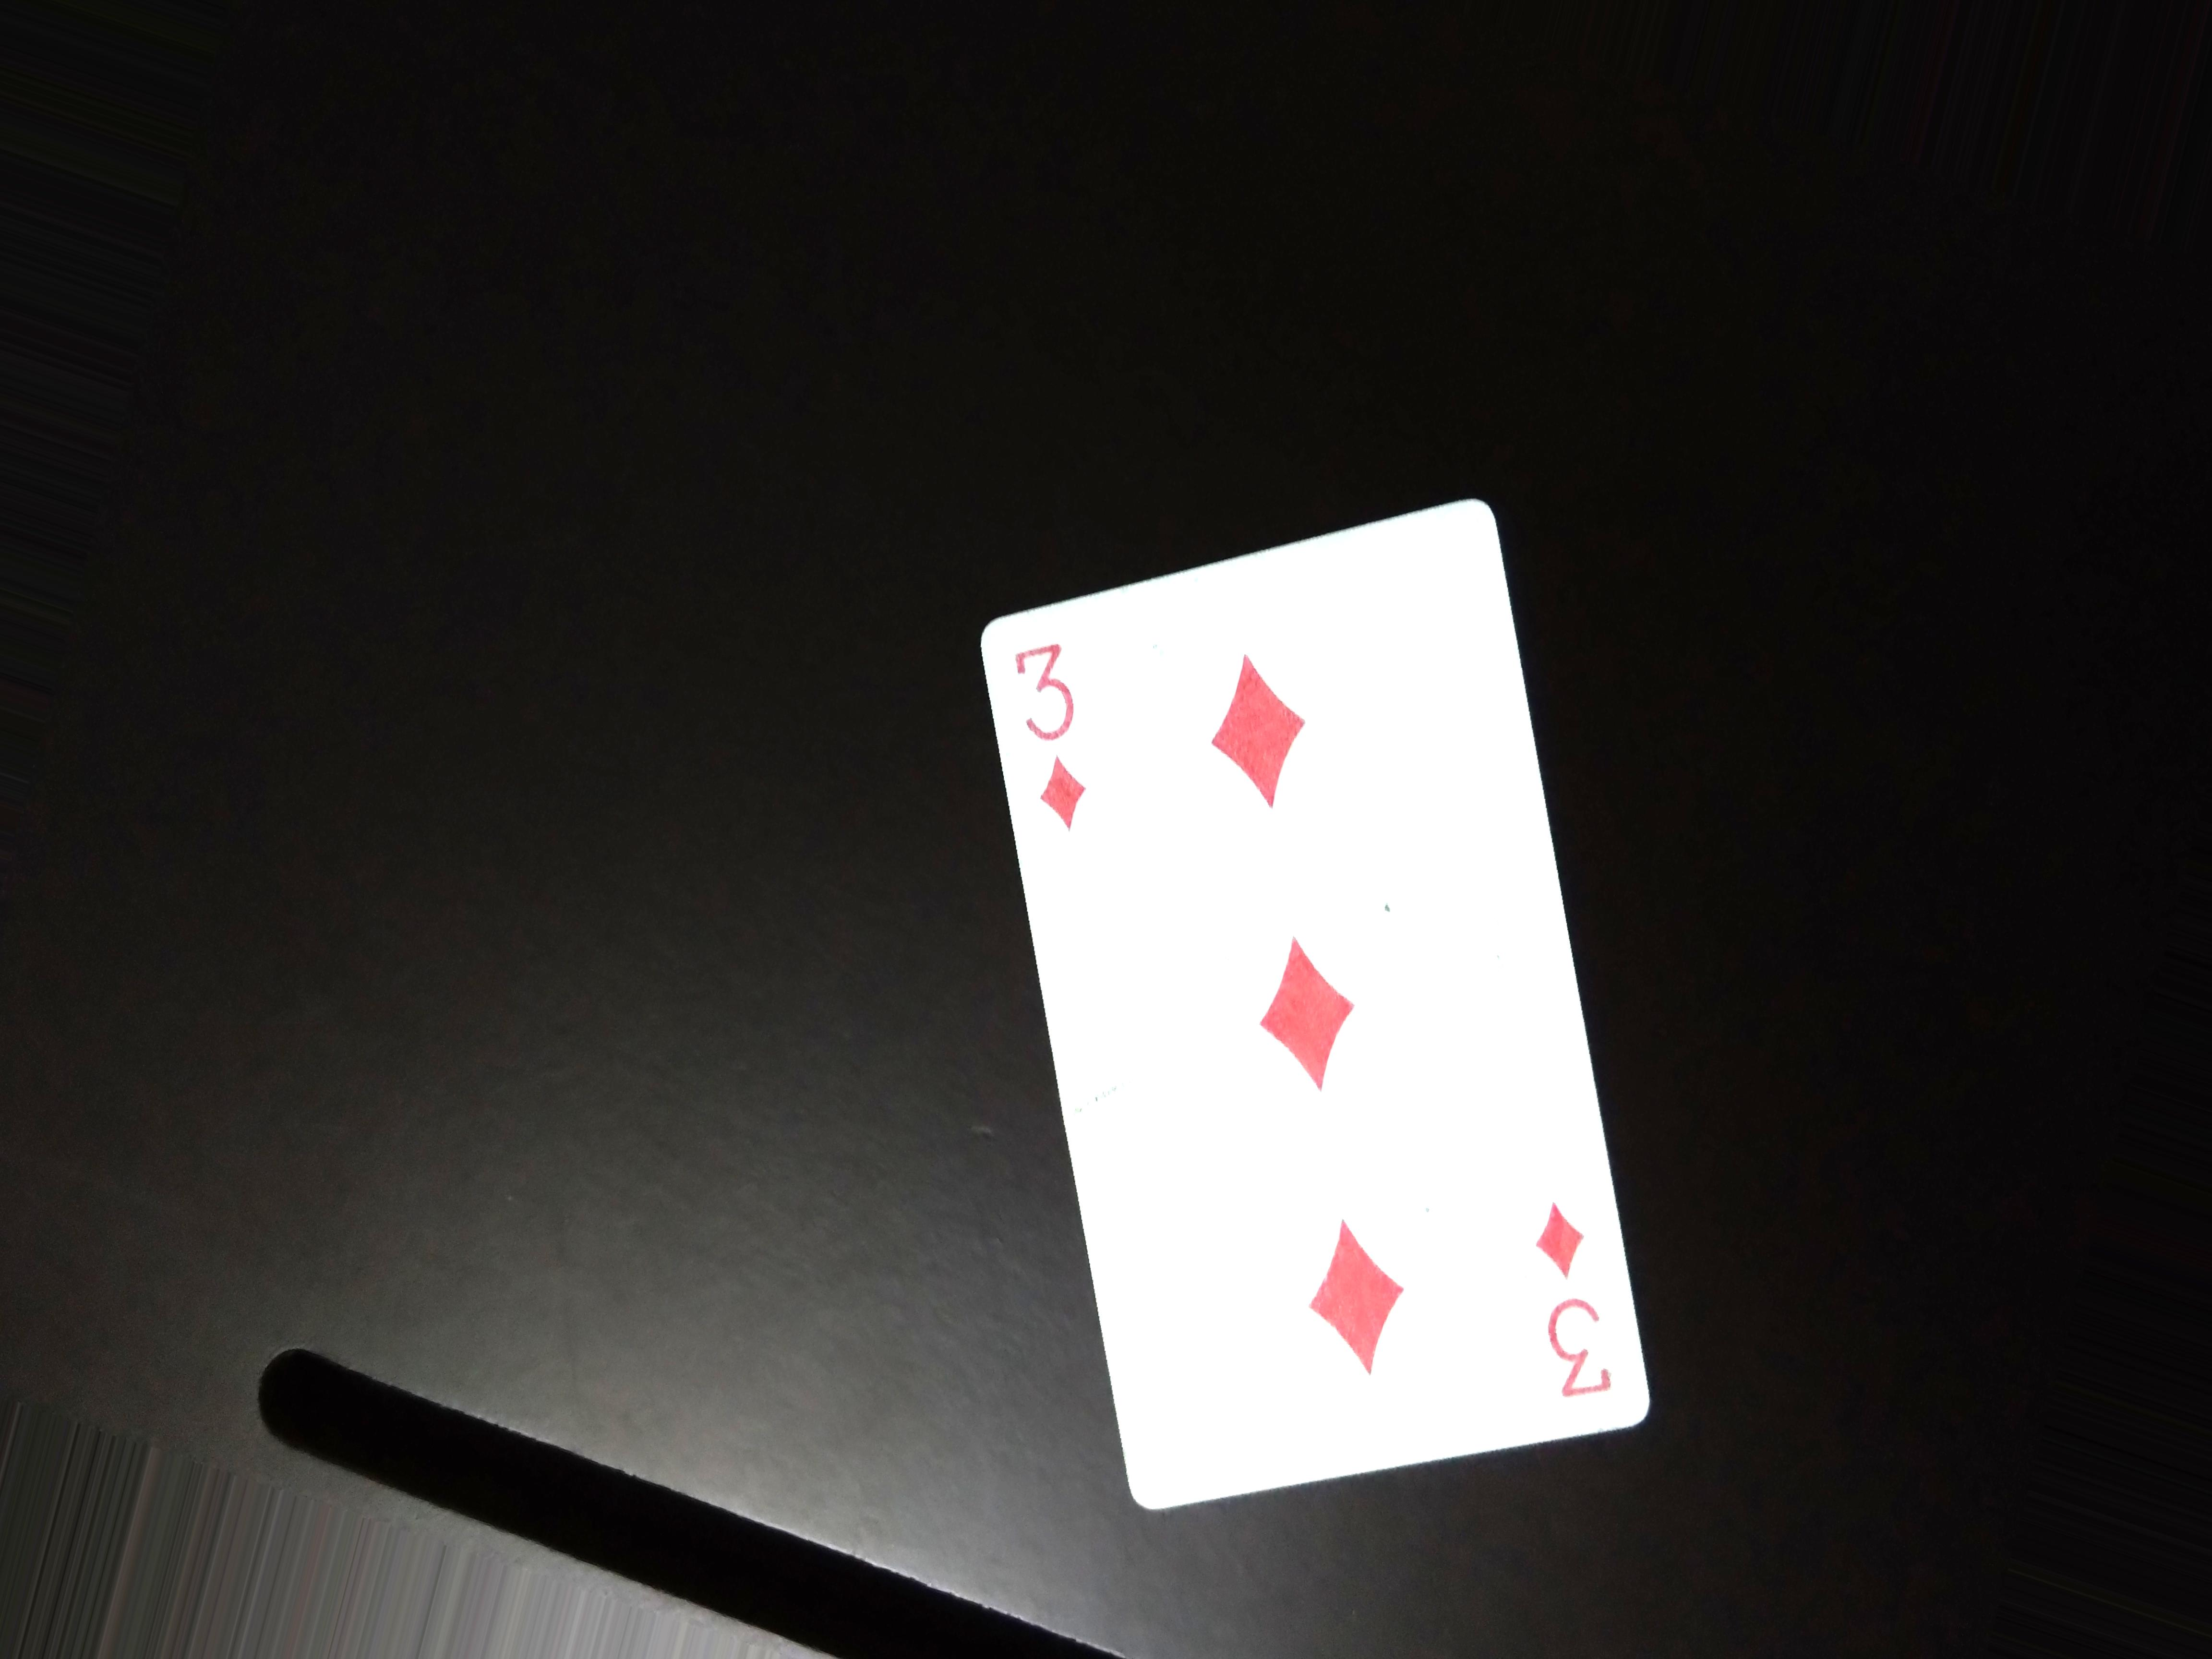3D: (989, 624, 1108, 836)
